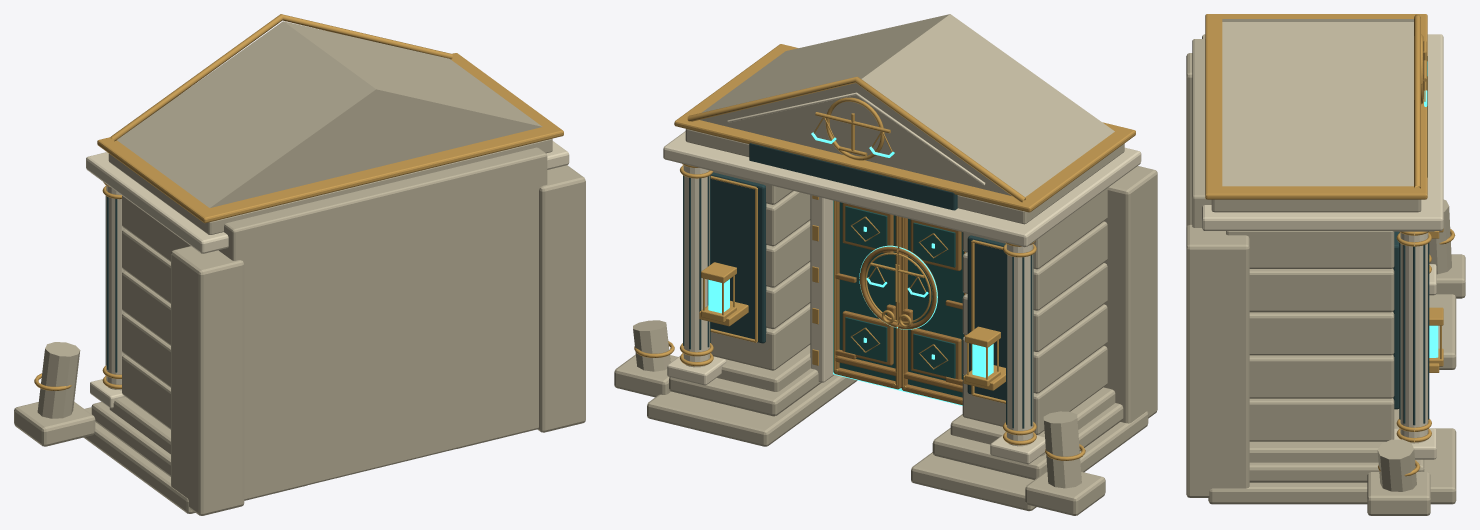
Rendered from weight-sanctuary-v02.fbx.
The picture shows the model from 3 angles, left to right: view 1: azimuth 30°, elevation 25°; view 2: azimuth 150°, elevation 25°; view 3: azimuth 270°, elevation 25°; orthographic projection. The views are drawn at different scales.
Parts seen in each view (by area): view 1: Sanctuary rear wall, Triangular pediment, Rear side buttress, Rear side buttress.001, Entablature.002, Entablature, Entablature.001, Round fluted column, Golden pediment edge, Ruined pillar shaft, Stepped side foundation, Ruined pillar base (+7 smaller); view 2: Triangular pediment, Rear side buttress, Entablature, Entablature.002, Recessed pier tablet.001, Stepped side foundation.003, Stepped side foundation, Round fluted column, Recessed pier tablet, Dressed pier course, Round fluted column.001, Right solid door (+40 smaller); view 3: Triangular pediment, Rear side buttress.001, Entablature.002, Entablature, Dressed pier course.006, Dressed pier course.008, Dressed pier course.007, Dressed pier course.005, Dressed pier course.009, Stepped side foundation.003, Round fluted column.001, Stepped side foundation.005 (+18 smaller).
Part boxes in pixels (left/top/right/bottom): Sanctuary rear wall: left=219, top=147, right=547, bottom=500; Triangular pediment: left=117, top=21, right=542, bottom=207; Rear side buttress: left=171, top=246, right=244, bottom=515; Rear side buttress.001: left=537, top=165, right=585, bottom=432; Entablature.002: left=97, top=53, right=563, bottom=223; Entablature: left=86, top=141, right=569, bottom=253; Entablature.001: left=108, top=139, right=552, bottom=234; Round fluted column: left=106, top=185, right=125, bottom=390; Golden pediment edge: left=110, top=14, right=452, bottom=141; Ruined pillar shaft: left=37, top=342, right=80, bottom=418; Stepped side foundation: left=83, top=407, right=306, bottom=513; Ruined pillar base: left=14, top=402, right=95, bottom=446; Triangular pediment: left=700, top=14, right=1114, bottom=196; Rear side buttress: left=1104, top=166, right=1157, bottom=423; Entablature: left=663, top=131, right=1141, bottom=247; Entablature.002: left=674, top=44, right=1135, bottom=212; Recessed pier tablet.001: left=710, top=172, right=766, bottom=343; Stepped side foundation.003: left=647, top=375, right=857, bottom=446; Stepped side foundation: left=911, top=411, right=1148, bottom=511; Round fluted column: left=1006, top=244, right=1033, bottom=446; Recessed pier tablet: left=967, top=235, right=1005, bottom=400; Dressed pier course: left=962, top=346, right=1107, bottom=434; Round fluted column.001: left=683, top=165, right=709, bottom=367; Right solid door: left=839, top=202, right=895, bottom=381; Triangular pediment: left=1222, top=19, right=1413, bottom=186; Rear side buttress.001: left=1186, top=224, right=1249, bottom=497; Entablature.002: left=1205, top=14, right=1427, bottom=199; Entablature: left=1202, top=34, right=1443, bottom=230; Dressed pier course.006: left=1249, top=355, right=1394, bottom=398; Dressed pier course.008: left=1249, top=268, right=1394, bottom=312; Dressed pier course.007: left=1249, top=312, right=1394, bottom=355; Dressed pier course.005: left=1249, top=398, right=1394, bottom=441; Dressed pier course.009: left=1226, top=231, right=1394, bottom=268; Stepped side foundation.003: left=1208, top=428, right=1456, bottom=504; Round fluted column.001: left=1400, top=232, right=1428, bottom=443; Stepped side foundation.005: left=1249, top=409, right=1399, bottom=462.
Size of the model in its own units: 910 by 680 by 440.
